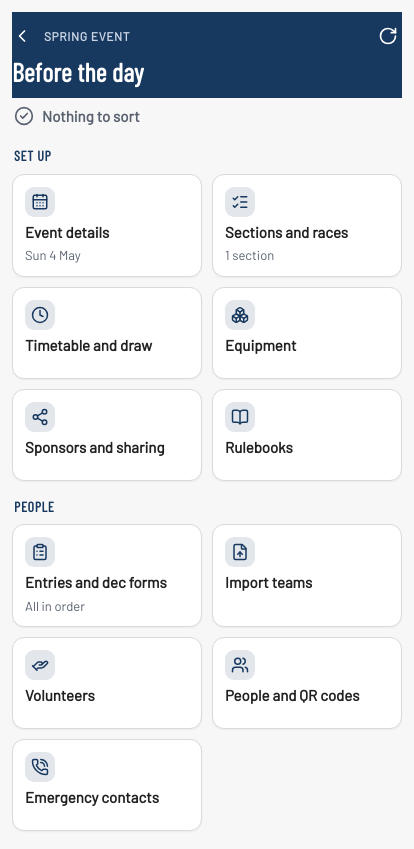
Test: EventToolsPage merged into OperationsPage › marks failing import rows with a word as well as colour and blocks adding them
Click the link "Import teams".
click(307, 576)  # box [212,524,402,627]
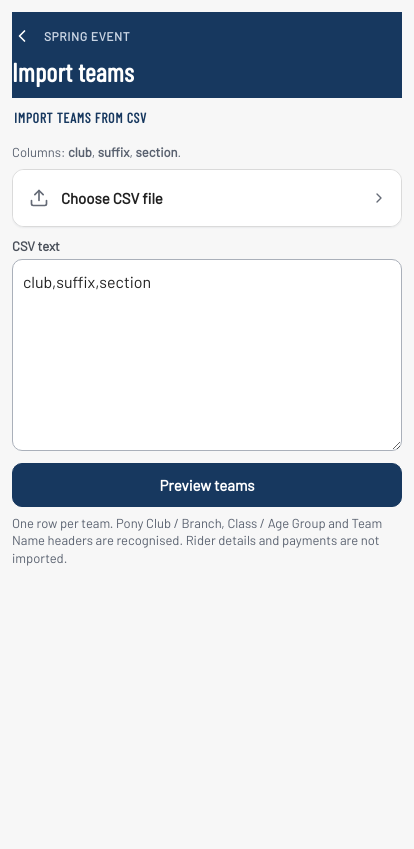
Click the button "Preview teams".
click(207, 485)  # box [12,463,402,507]
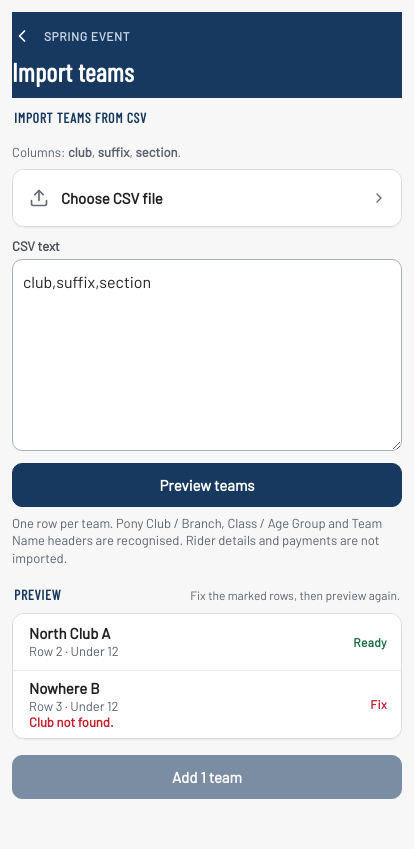
expect the text "Ready" is shown: met, box [353,636,387,648]
expect the text "Fix" is shown: met, box [370,698,387,710]
expect the text "Club not found." is shown: met, box [29,714,114,730]
